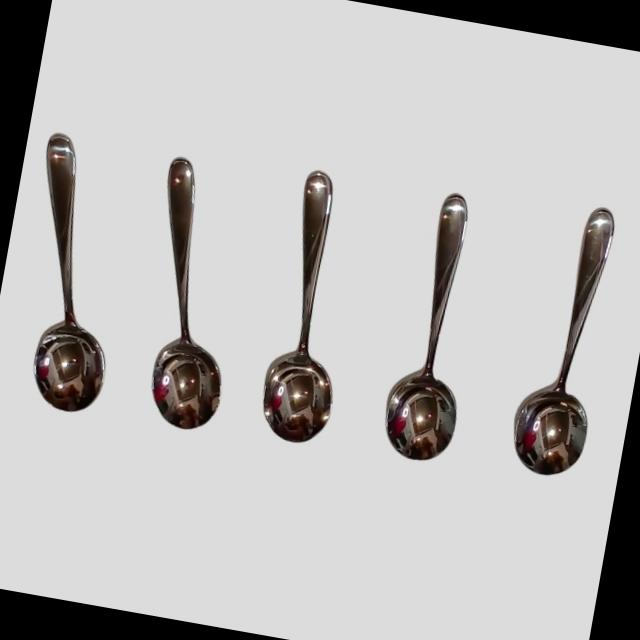spoon: (227, 147, 380, 460)
